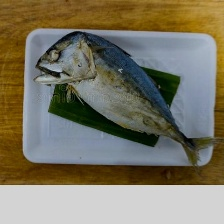foam_box: (17, 22, 220, 170)
